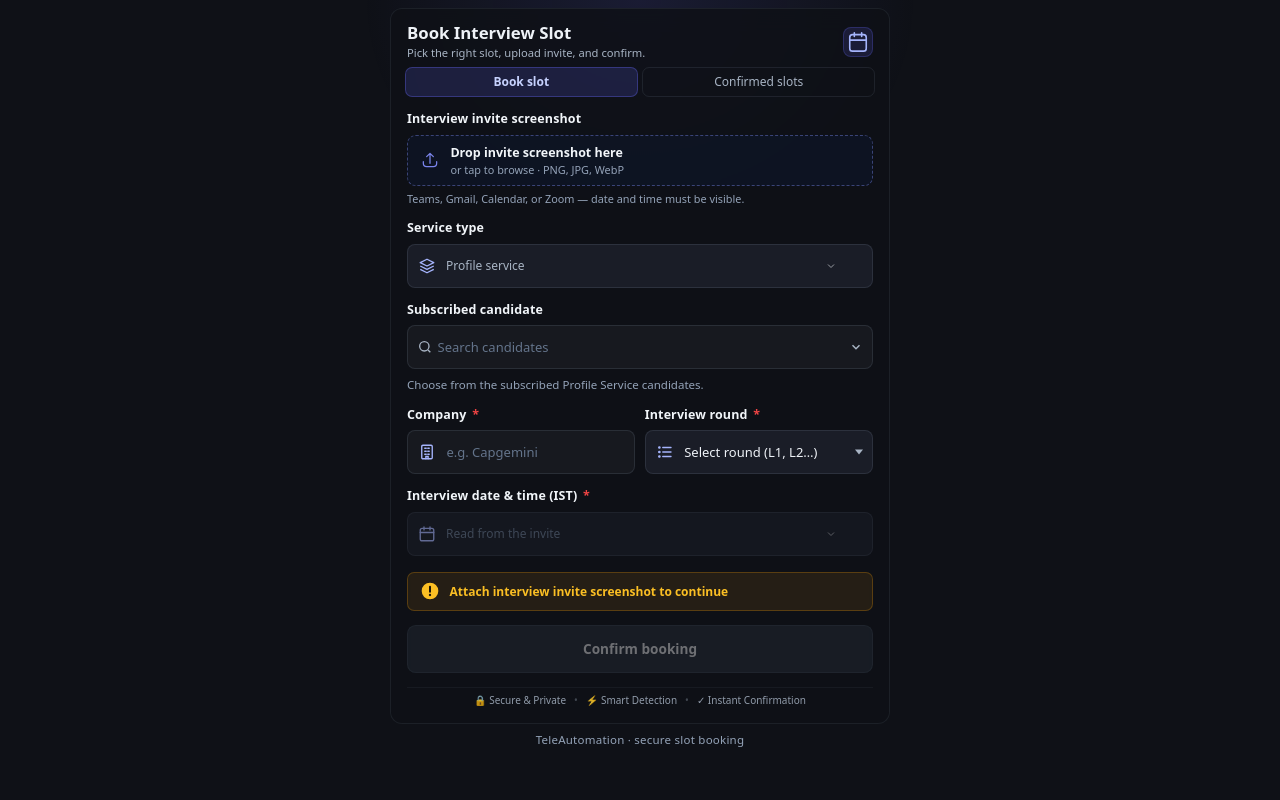
it: a newly subscribed candidate › appears when the list is opened again, without a reload
The image size is (1280, 800).
Focus the field labelled "Profile Service candidate": (640, 347) [407,325,873,369]
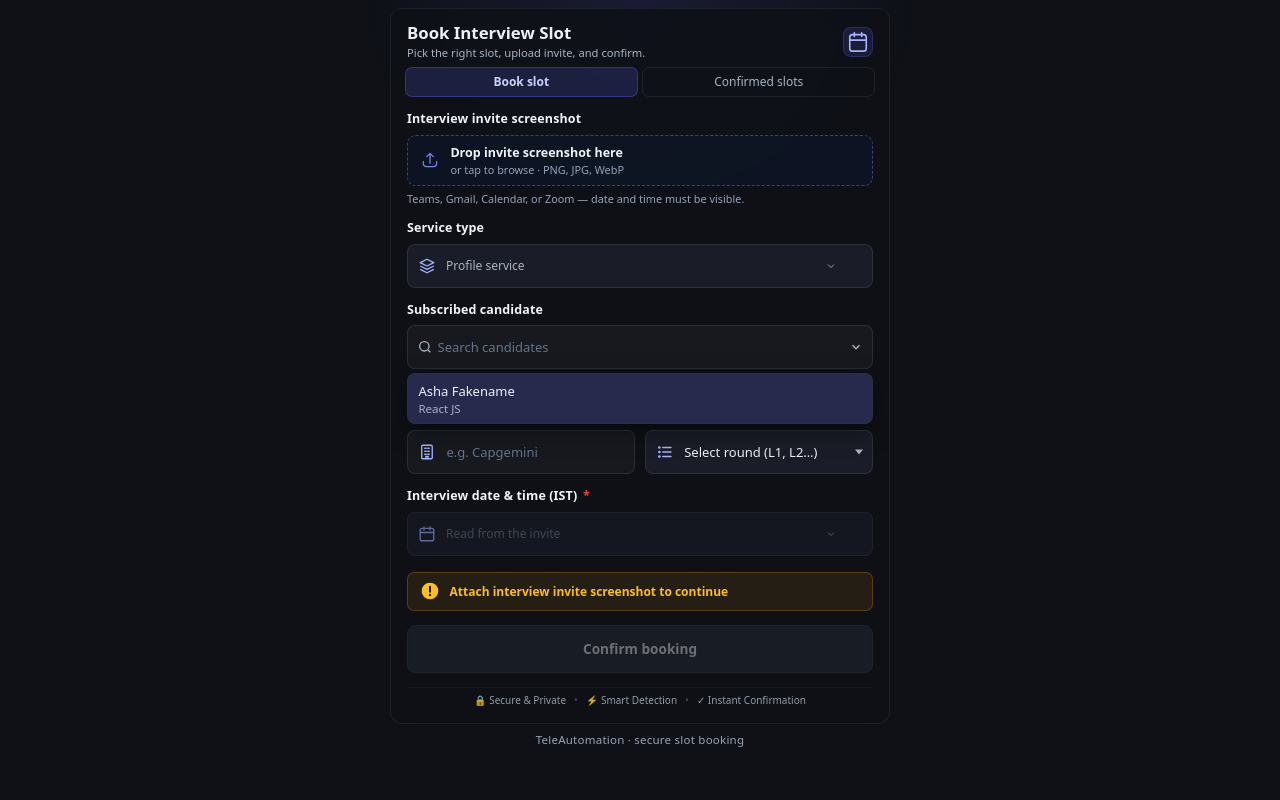
expect the number of options is 1: met, box [408,374,872,423]
Press the mouse on the element that starts with "Book Interview Slot": (640, 400) [0,0,1279,799]
Wait 25000 ms
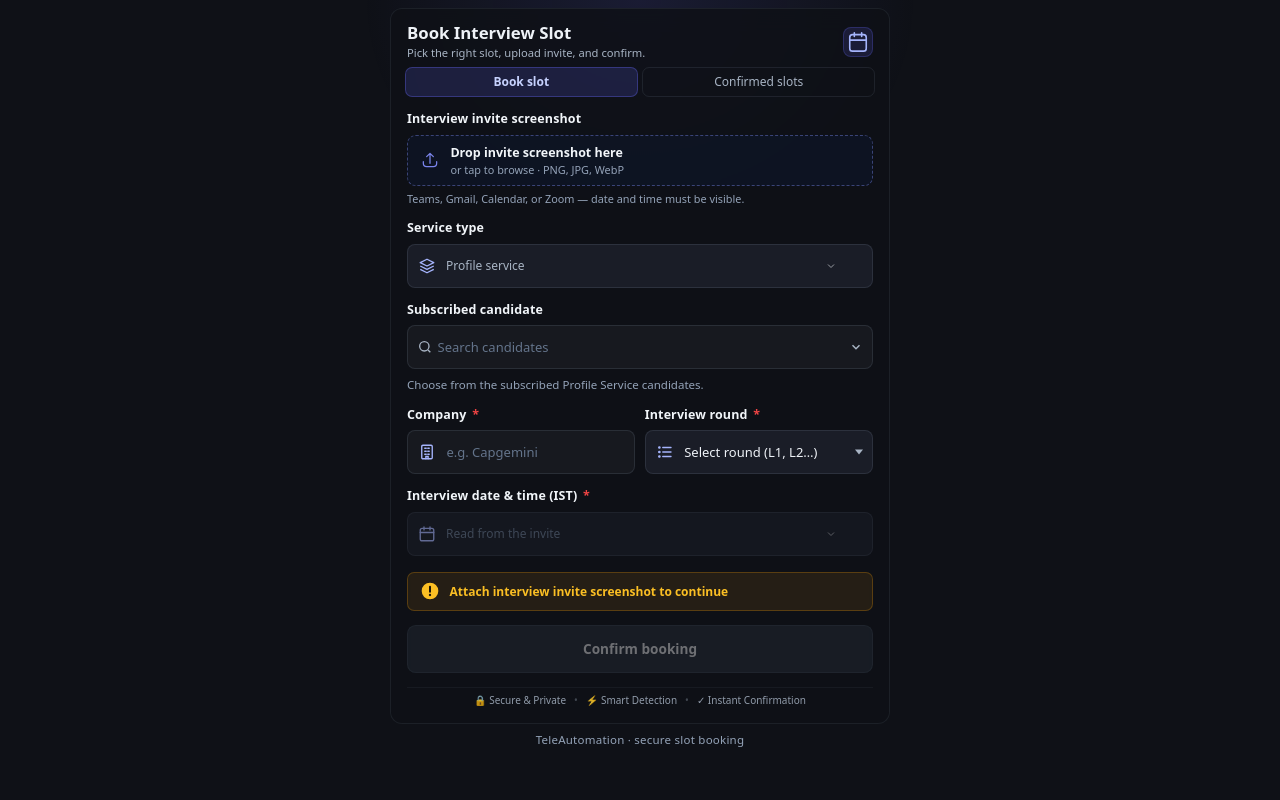
Focus the field labelled "Profile Service candidate": (640, 347) [407,325,873,369]
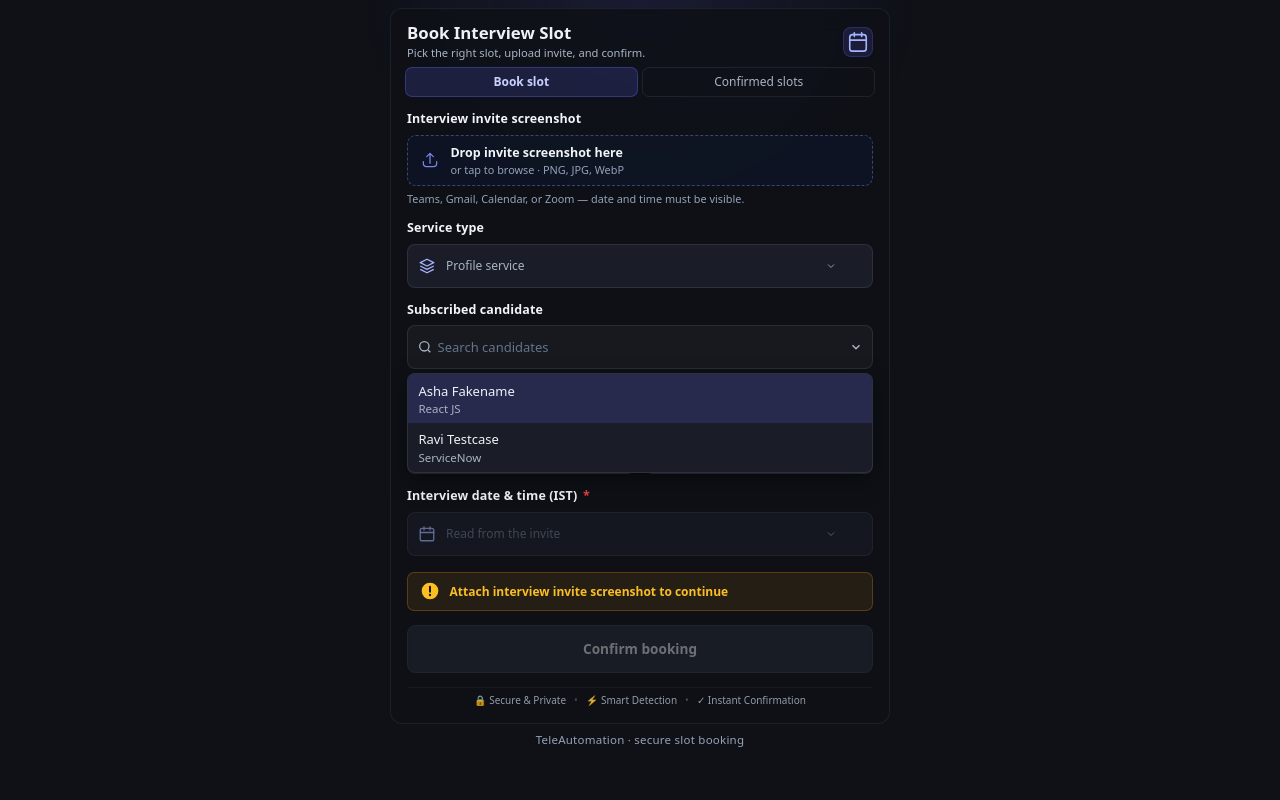
expect the number of options is 2: met, box [408,374,872,423]; [408,423,872,472]
